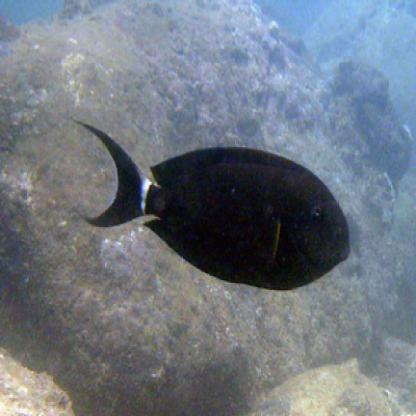Acanthuridae -Surgeonfishes-: (74, 117, 351, 291)
